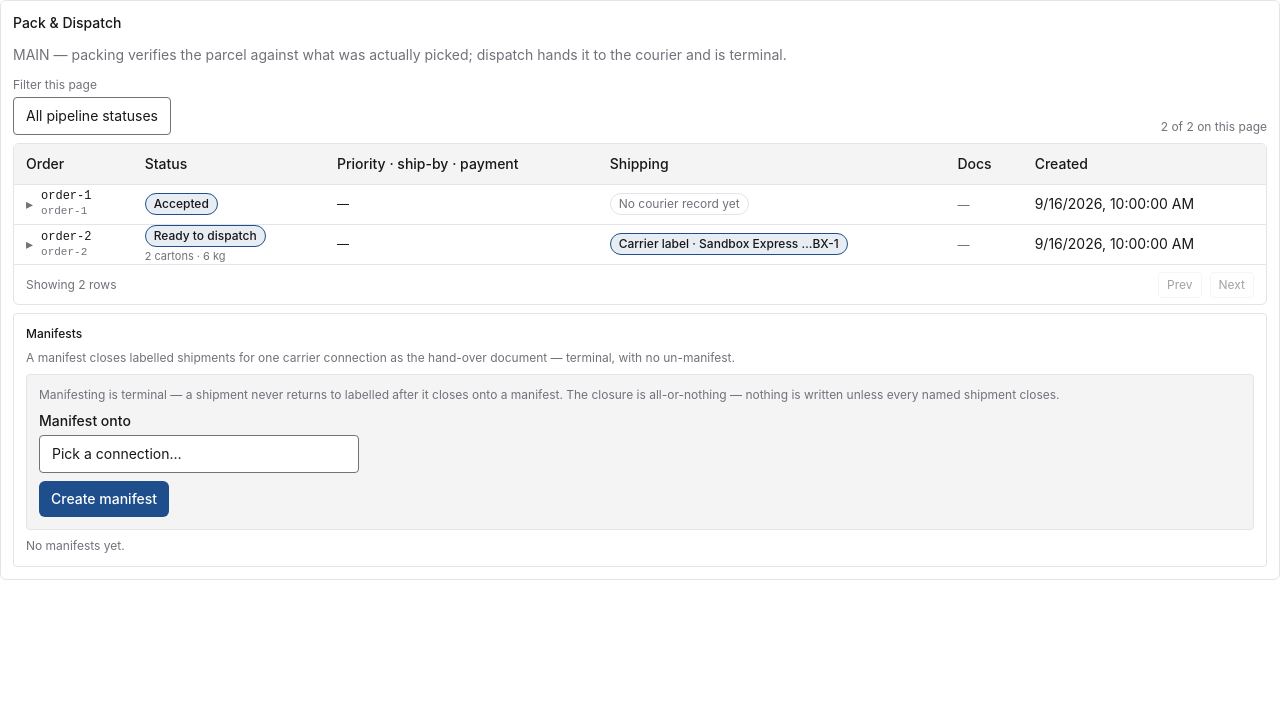
it: Re-pack into cartons (A8, A26) › a live carrier label hides Re-pack and the label form is not shown again (A41)
What coordinates should you click on to do the following:
click the button "▸ order-2 order-2"
I would click on:
 (59, 244)
Its box is [26,228,92,260].
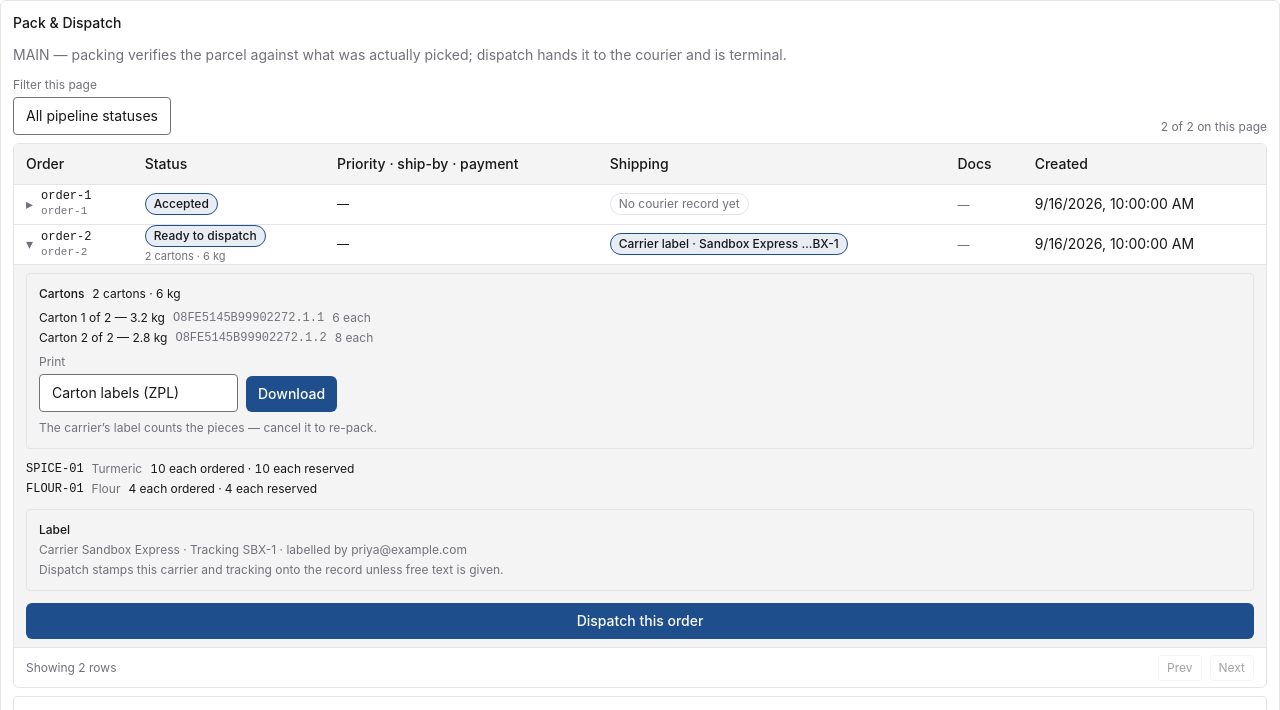
Expected: the text "The carrier’s label counts the pieces" is shown, [39,420,377,435]
